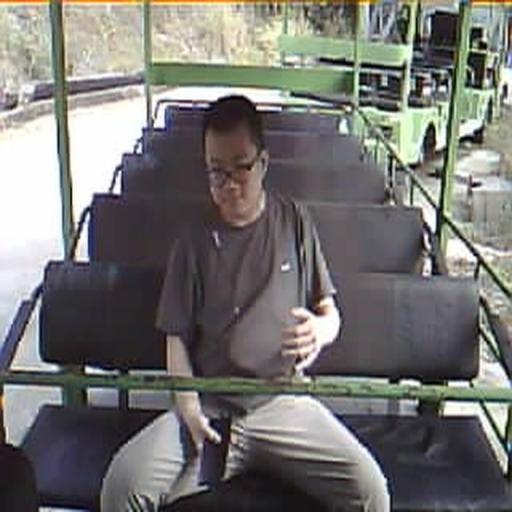persona: (99, 94, 392, 510)
